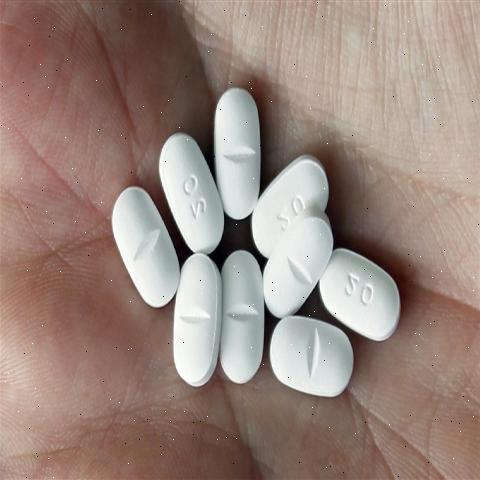Pill: (103, 174, 180, 314), (268, 311, 355, 406), (259, 209, 334, 315), (213, 80, 264, 221), (170, 258, 222, 390), (218, 250, 265, 389)
